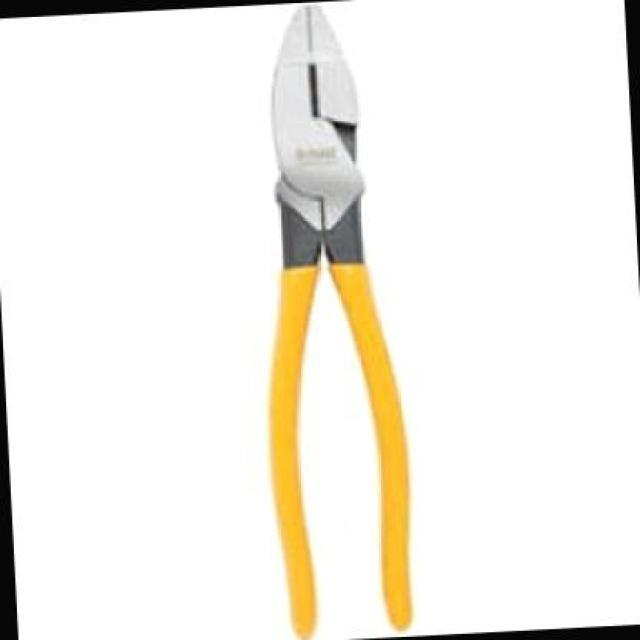pliers: (221, 0, 456, 638)
